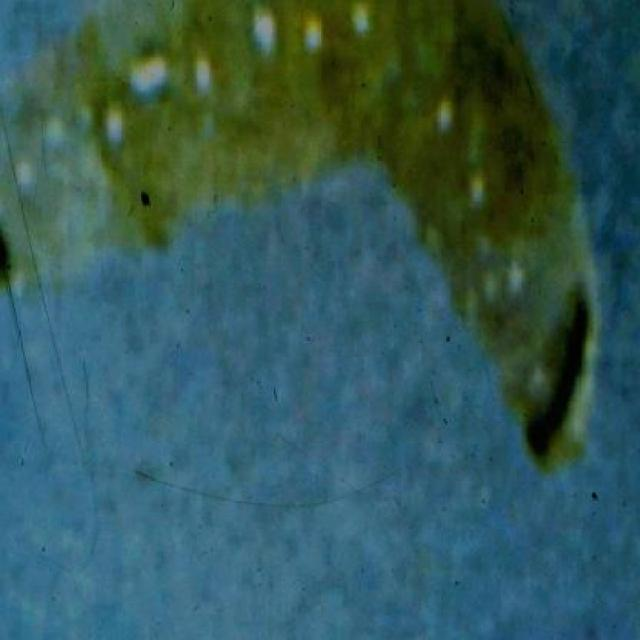whorl-maggot: (0, 2, 600, 485)
